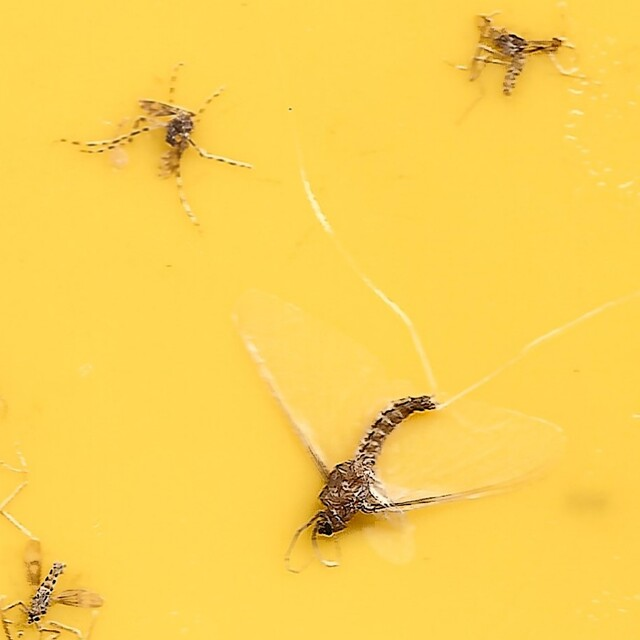Ephemeroptera: (221, 295, 570, 569)
Nematocera: (70, 71, 248, 218)
